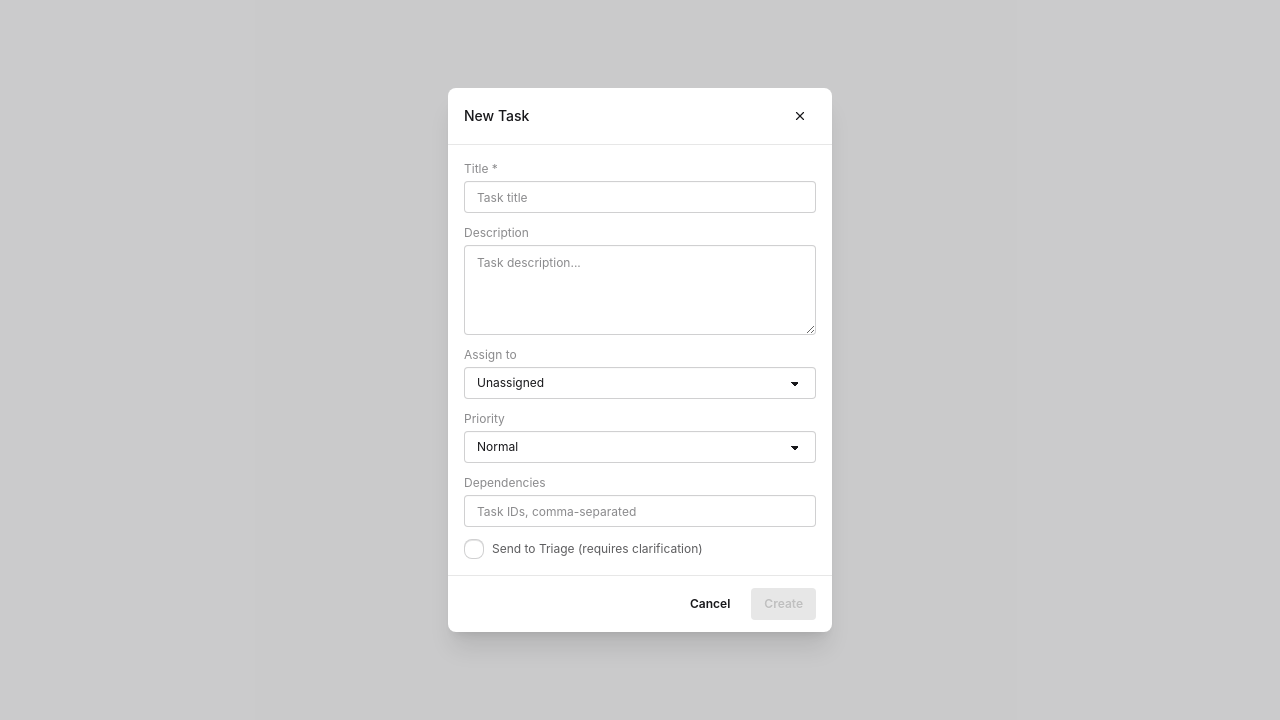
Test: CreateTaskModal.vue › should enable create button when title is non-empty
In the field with placeholder "Task title": [640, 197] box left=464, top=181, right=816, bottom=213, type "Fix critical bug"
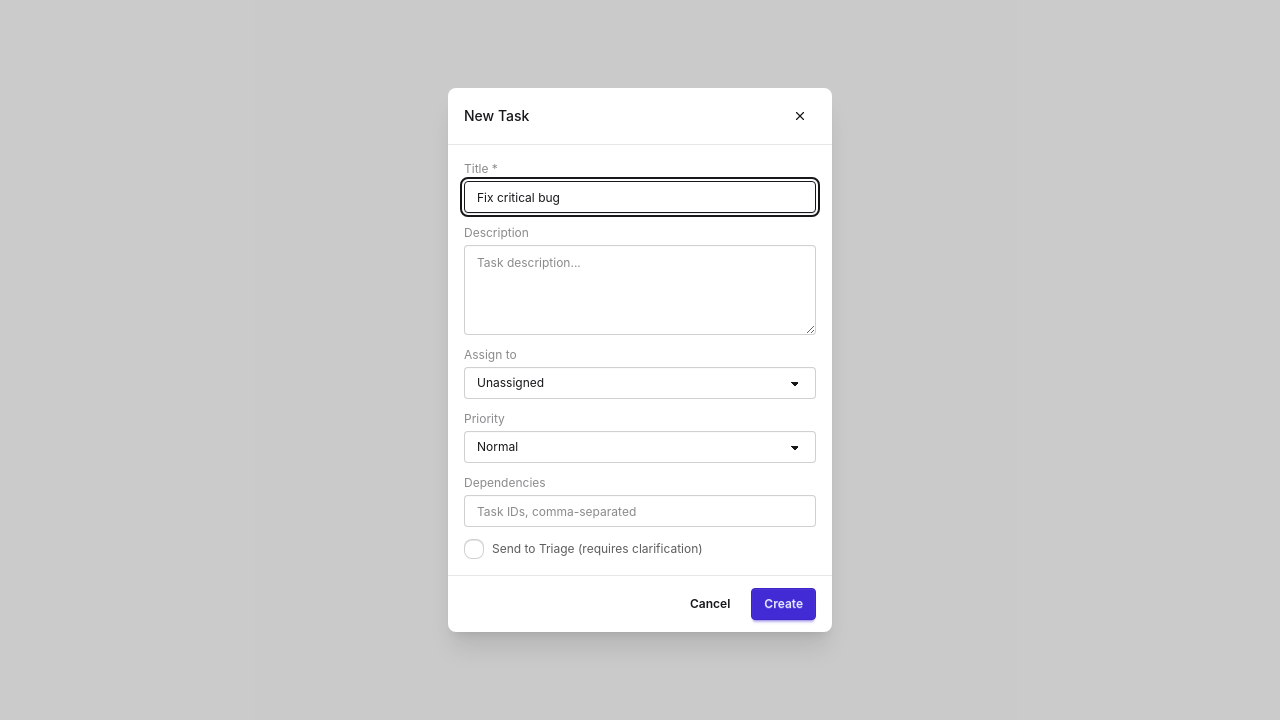
Expected: the button "Create" is enabled, left=751, top=588, right=816, bottom=620
